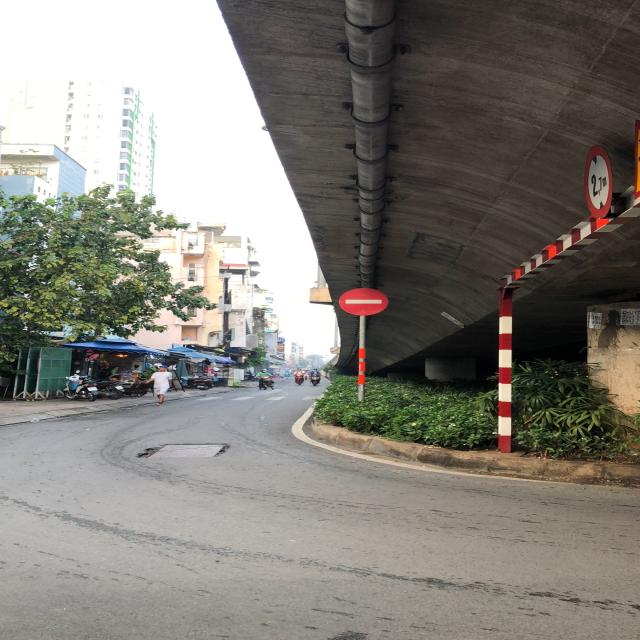Bien bao cam di nguoc chieu: (337, 284, 392, 318)
